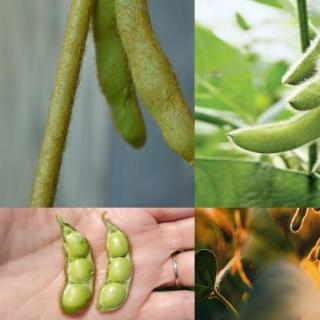soya: (118, 0, 194, 164), (92, 0, 146, 150), (228, 89, 320, 156), (55, 215, 94, 314), (98, 222, 134, 312), (278, 10, 319, 86), (288, 20, 320, 112), (290, 208, 308, 234), (307, 245, 316, 262), (316, 234, 319, 261)
